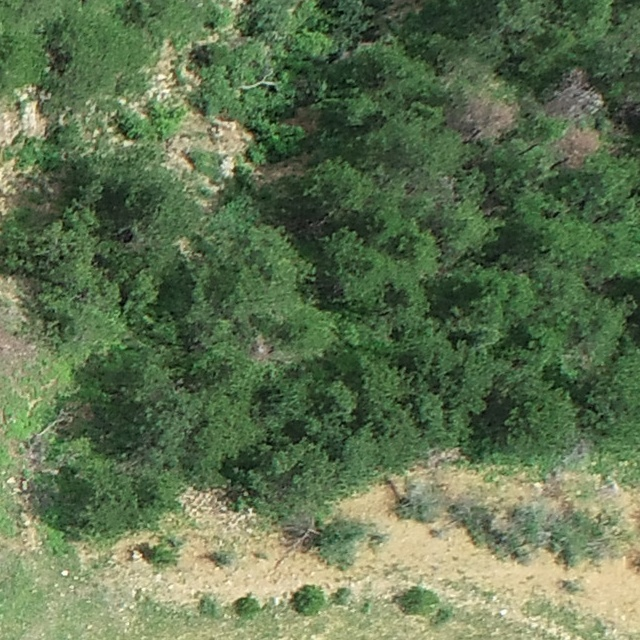unhealthy: (456, 94, 520, 141), (545, 68, 603, 119), (552, 124, 599, 167), (247, 331, 271, 362)
